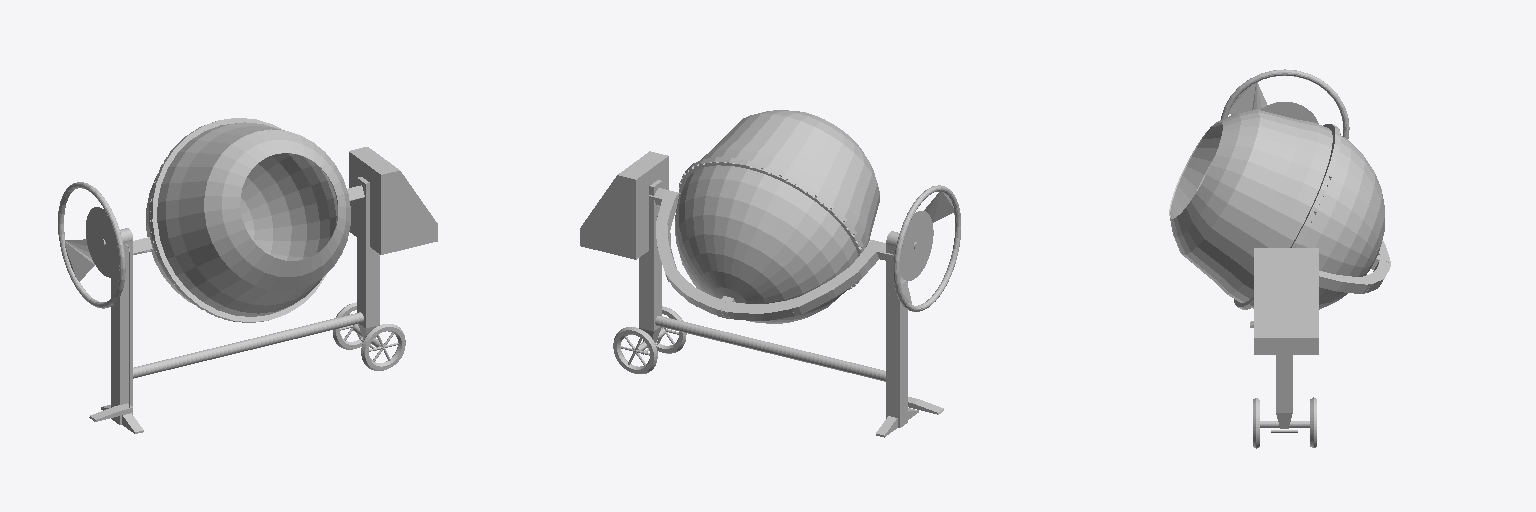
File: Concrete-Mixer.obj
3 views of the same model, side by side, from view 1: azimuth 30°, elevation 25°; view 2: azimuth 150°, elevation 25°; view 3: azimuth 270°, elevation 25° (orthographic).
Parts seen in each view (by area): view 1: Concrete_mixer_(ROTATE_THIS)_Cube.002, Base_Concrete_mixer_Circle.002; view 2: Concrete_mixer_(ROTATE_THIS)_Cube.002, Base_Concrete_mixer_Circle.002; view 3: Concrete_mixer_(ROTATE_THIS)_Cube.002, Base_Concrete_mixer_Circle.002.
Boxes of the visible parts, <box> form: Concrete_mixer_(ROTATE_THIS)_Cube.002: <box>133,118,364,322</box>; Base_Concrete_mixer_Circle.002: <box>58,147,437,433</box>; Concrete_mixer_(ROTATE_THIS)_Cube.002: <box>649,110,893,323</box>; Base_Concrete_mixer_Circle.002: <box>580,151,960,437</box>; Concrete_mixer_(ROTATE_THIS)_Cube.002: <box>1169,109,1390,309</box>; Base_Concrete_mixer_Circle.002: <box>1221,69,1349,448</box>.
Size of the model in its own units: 3.96 by 3.01 by 2.26.